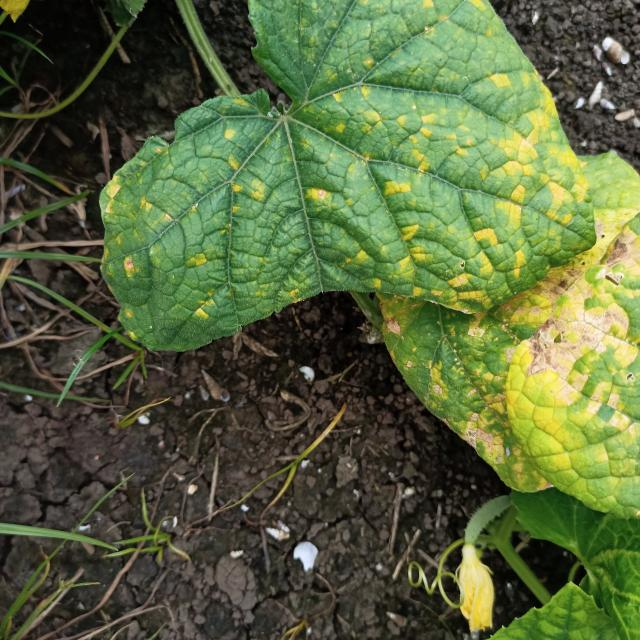disease_cucumber: (101, 9, 590, 320), (421, 199, 640, 492)
